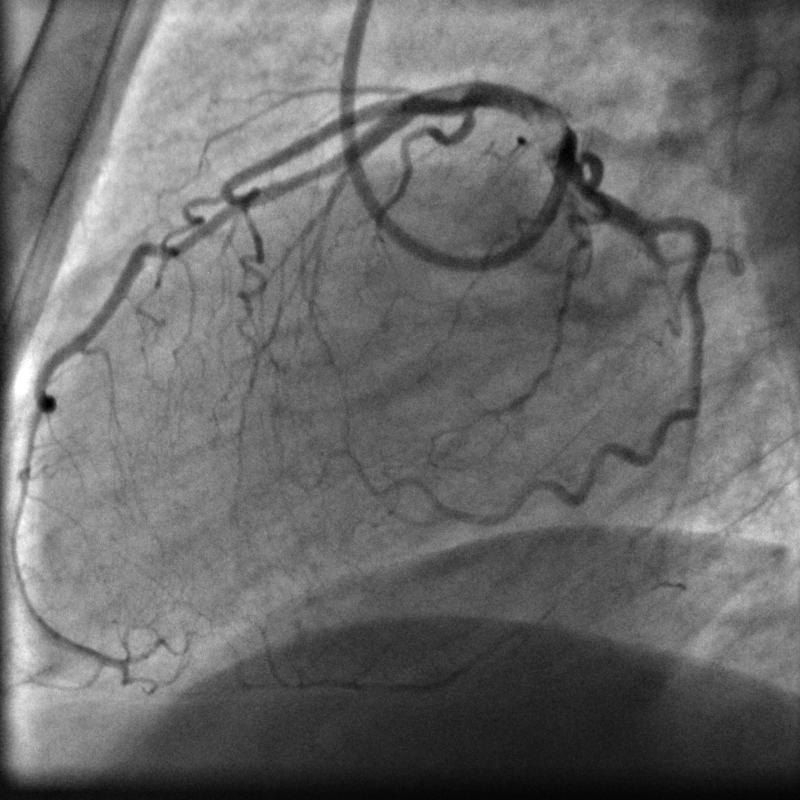Stenosis: (446, 85, 488, 132)
